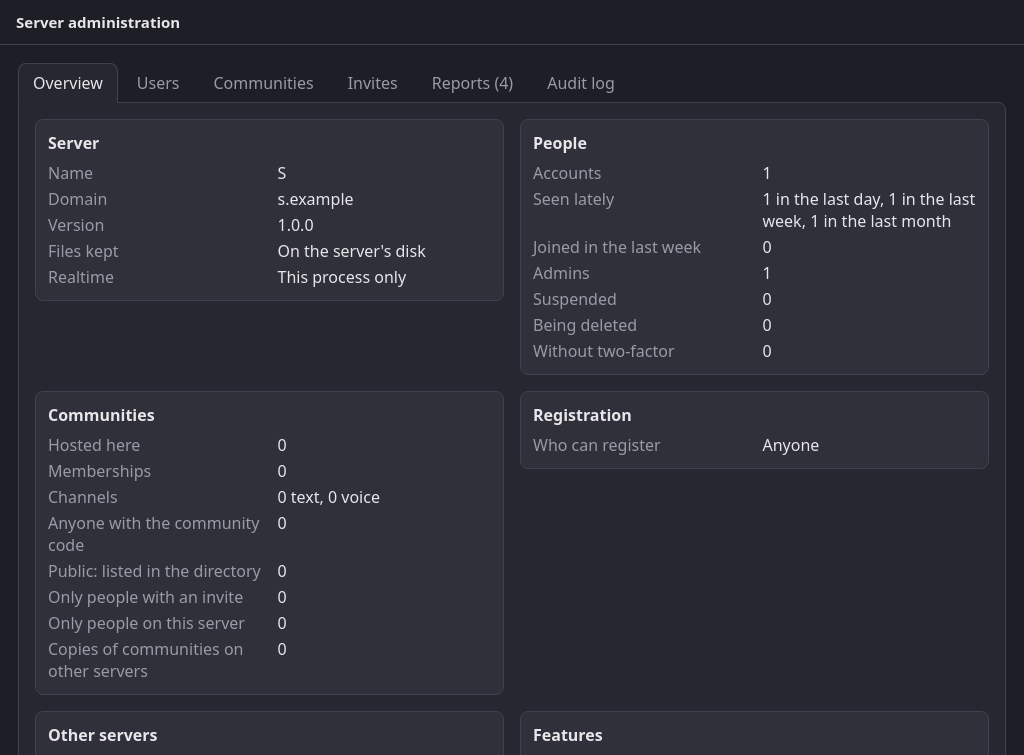
it: the admin page › says how many reports are waiting on the Reports tab, from the first page, and keeps it right as the queue changes
Note: Opening the queue brings the exact number with it.
Click the tab "Reports (4)".
click(472, 83)  # box 417,63 -> 528,103
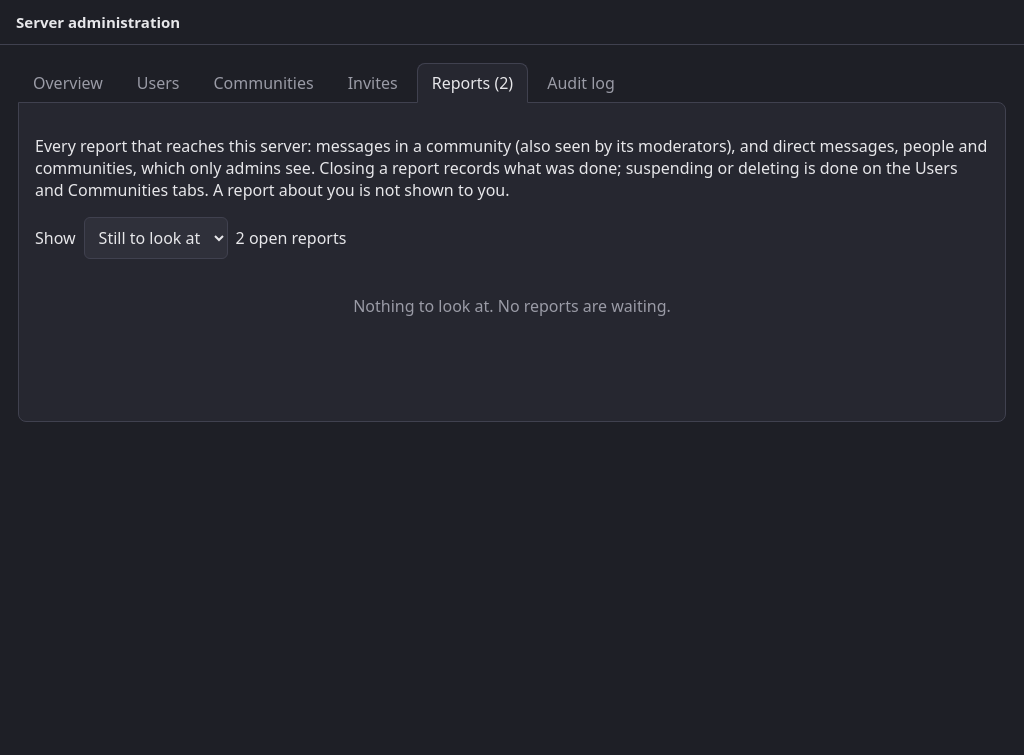
Result: the tab "Reports (2)" is shown at 417,63 -> 528,103
